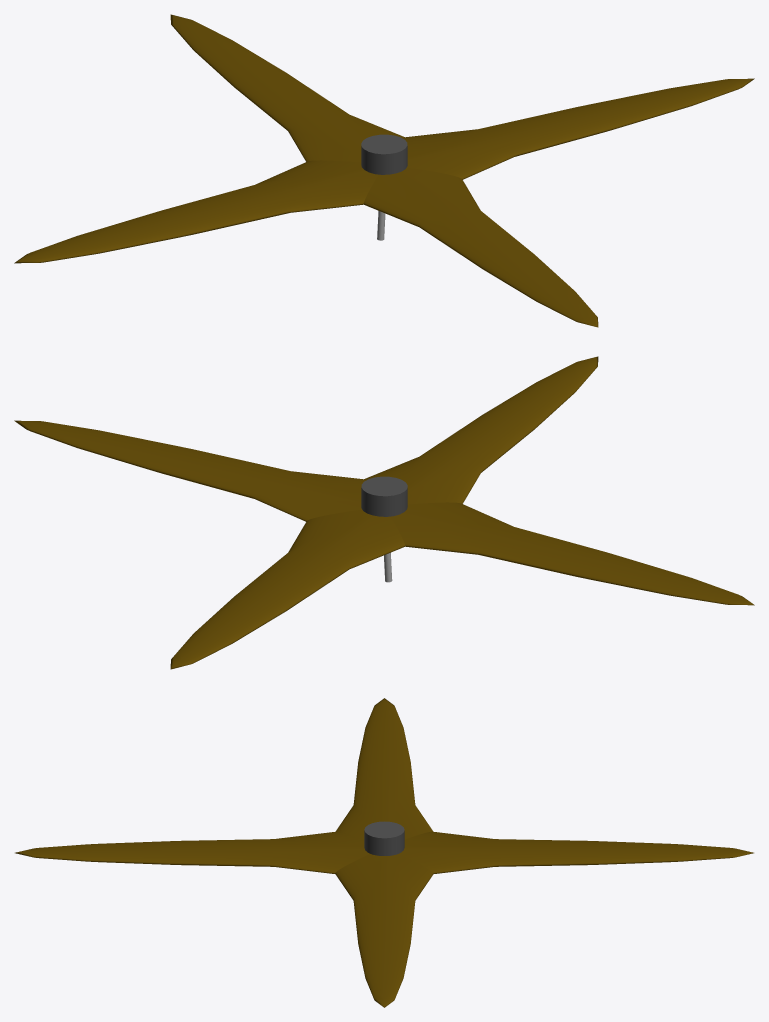
Rendered from blades_animation.fbx.
3 renders of one model, top to bottom at view 1: azimuth 30°, elevation 25°; view 2: azimuth 150°, elevation 25°; view 3: azimuth 270°, elevation 25°, orthographic. The views are drawn at different scales.
Parts seen in each view (by area): view 1: pSphere13; view 2: pSphere13; view 3: pSphere13.
Boxes of the visible parts, left/top/right/bottom form: pSphere13: left=14, top=14, right=754, bottom=327; pSphere13: left=14, top=356, right=754, bottom=669; pSphere13: left=15, top=698, right=753, bottom=1007.
Size of the model in its own units: 36.75 by 4.45 by 36.75.
